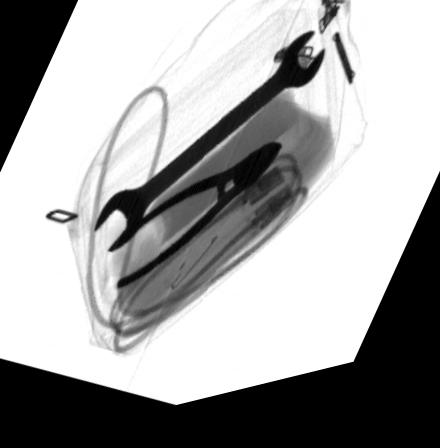Pliers: (111, 156, 282, 294)
Wrench: (94, 44, 325, 257)
